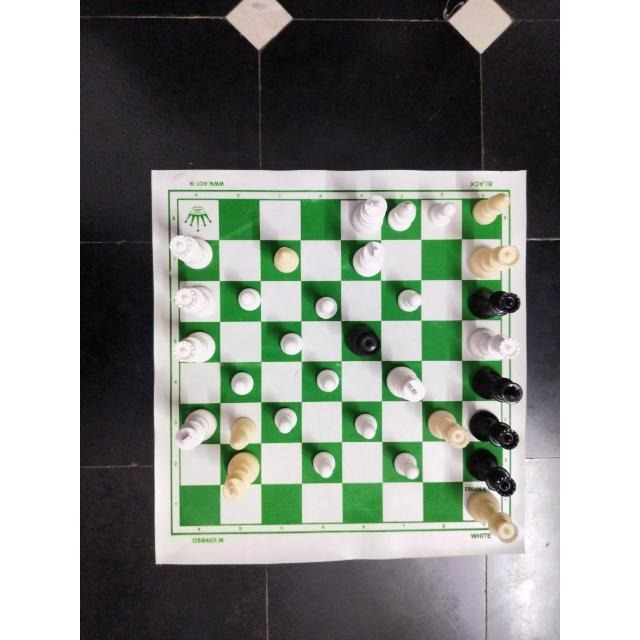black-king: (467, 366, 523, 405)
black-queen: (466, 447, 517, 496), (470, 410, 520, 452), (465, 286, 523, 320), (345, 323, 381, 357)
white-bishop: (471, 192, 510, 226), (387, 199, 417, 232), (229, 415, 257, 450), (271, 244, 298, 275)
white-king: (222, 451, 260, 503), (175, 408, 217, 452), (385, 363, 427, 403), (350, 194, 386, 235), (349, 241, 386, 277)
white-pawn: (306, 450, 337, 480), (427, 201, 458, 230), (269, 406, 298, 436), (391, 452, 421, 480), (352, 412, 380, 440), (229, 371, 255, 397), (312, 367, 339, 392), (237, 286, 261, 313), (396, 287, 421, 312), (314, 295, 338, 319), (278, 332, 302, 356)
white-queen: (466, 490, 520, 545), (466, 240, 522, 279), (424, 406, 472, 450), (466, 324, 522, 361), (168, 236, 215, 272), (171, 329, 218, 365), (173, 285, 217, 319)
